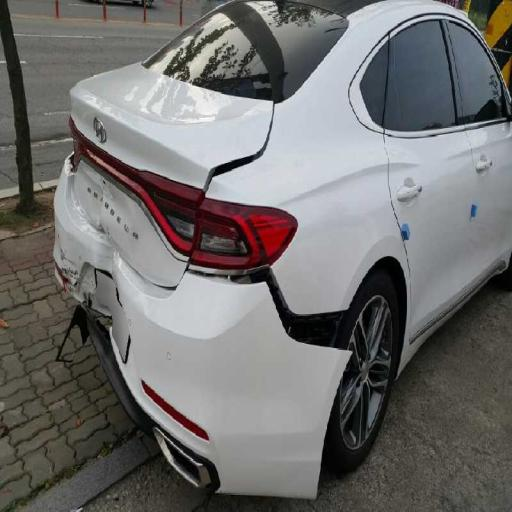broken: (232, 206, 378, 390), (45, 248, 139, 391)
dent: (56, 78, 144, 258)
